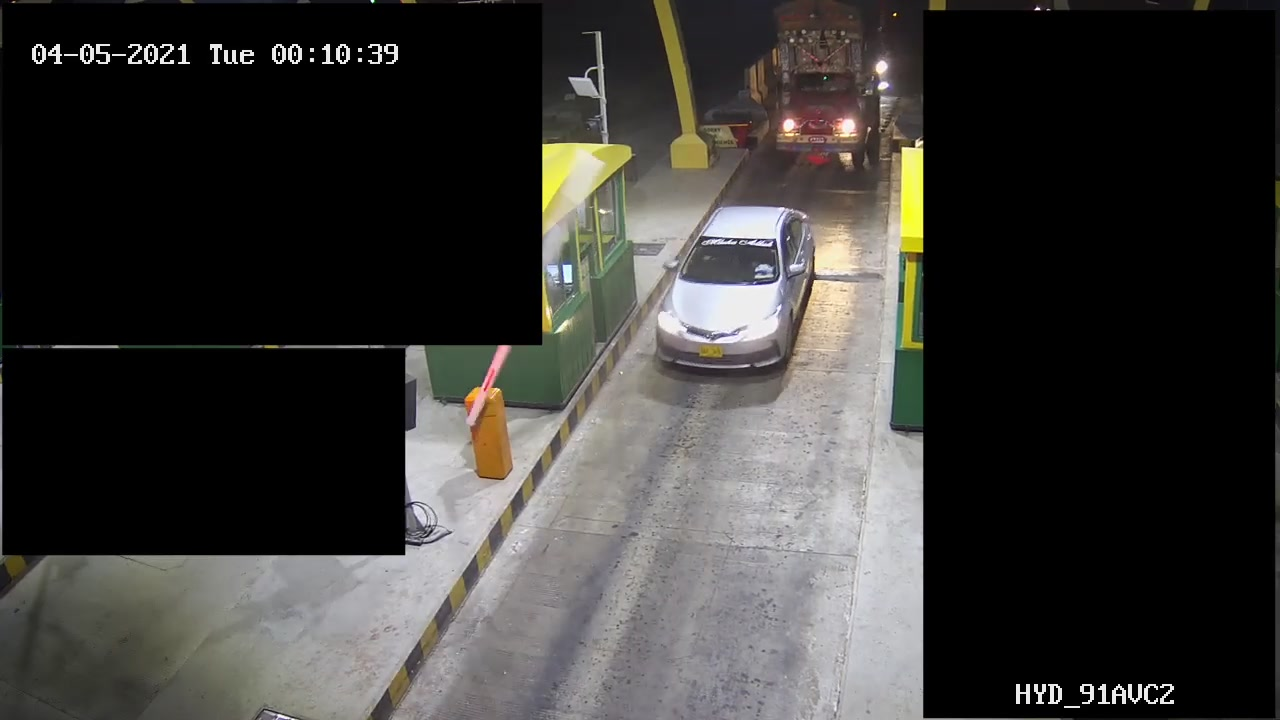F1: (638, 188, 821, 396)
